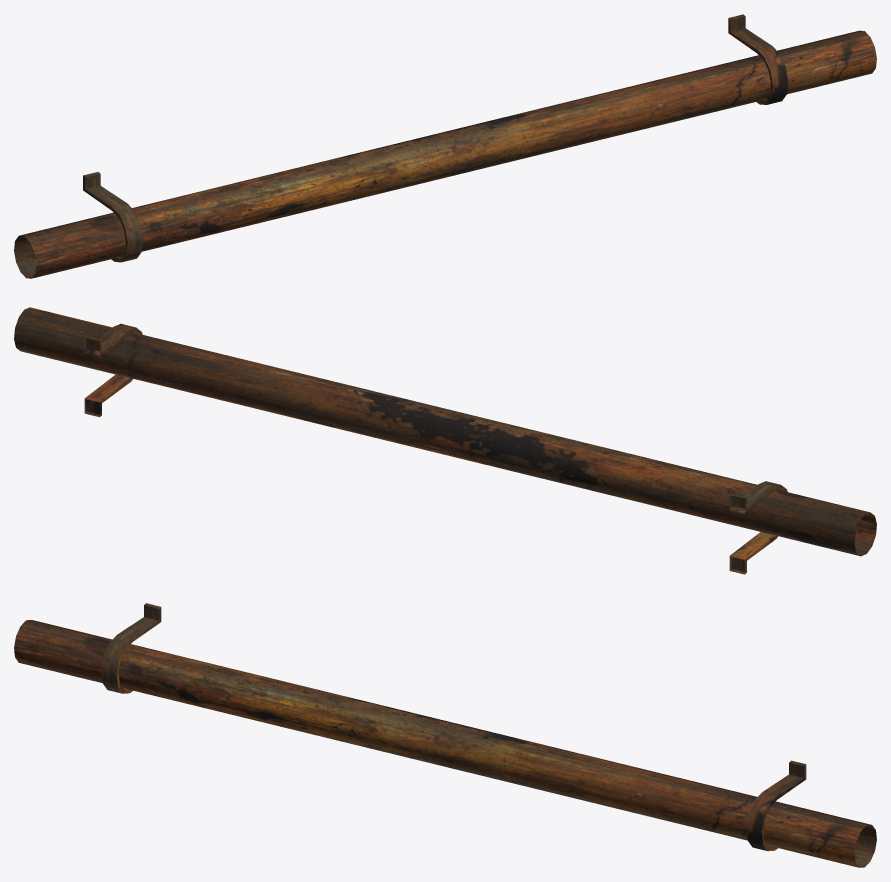
The model's file is Pipe_WithBrackets.fbx.
3 renders of one model, top to bottom at view 1: azimuth 30°, elevation 25°; view 2: azimuth 150°, elevation 25°; view 3: azimuth 330°, elevation 25°, orthographic.
Visible parts, largest first — view 1: Pipe_WithBrackets; view 2: Pipe_WithBrackets; view 3: Pipe_WithBrackets.
Boxes of the visible parts, x1,y1,x2,y2 form: Pipe_WithBrackets: (14, 14, 876, 278); Pipe_WithBrackets: (14, 307, 876, 574); Pipe_WithBrackets: (14, 603, 876, 867).
Bounding box in the file's own units: 464 × 40.07 × 42.83.
